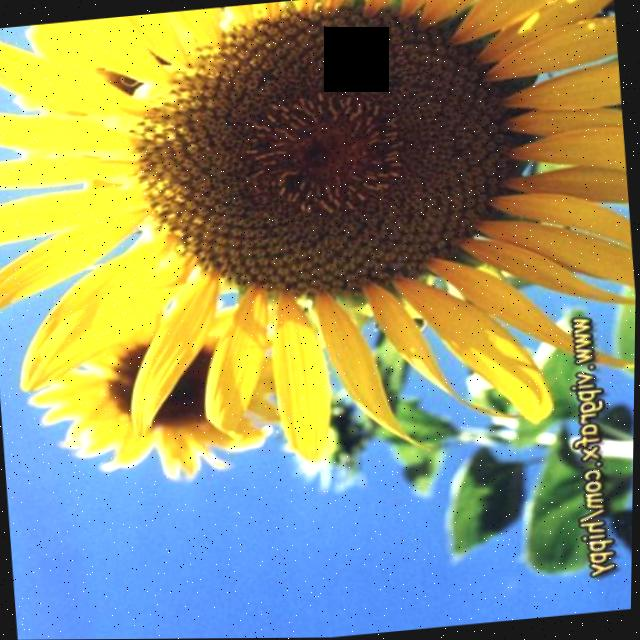sunflower: (0, 0, 574, 512)
